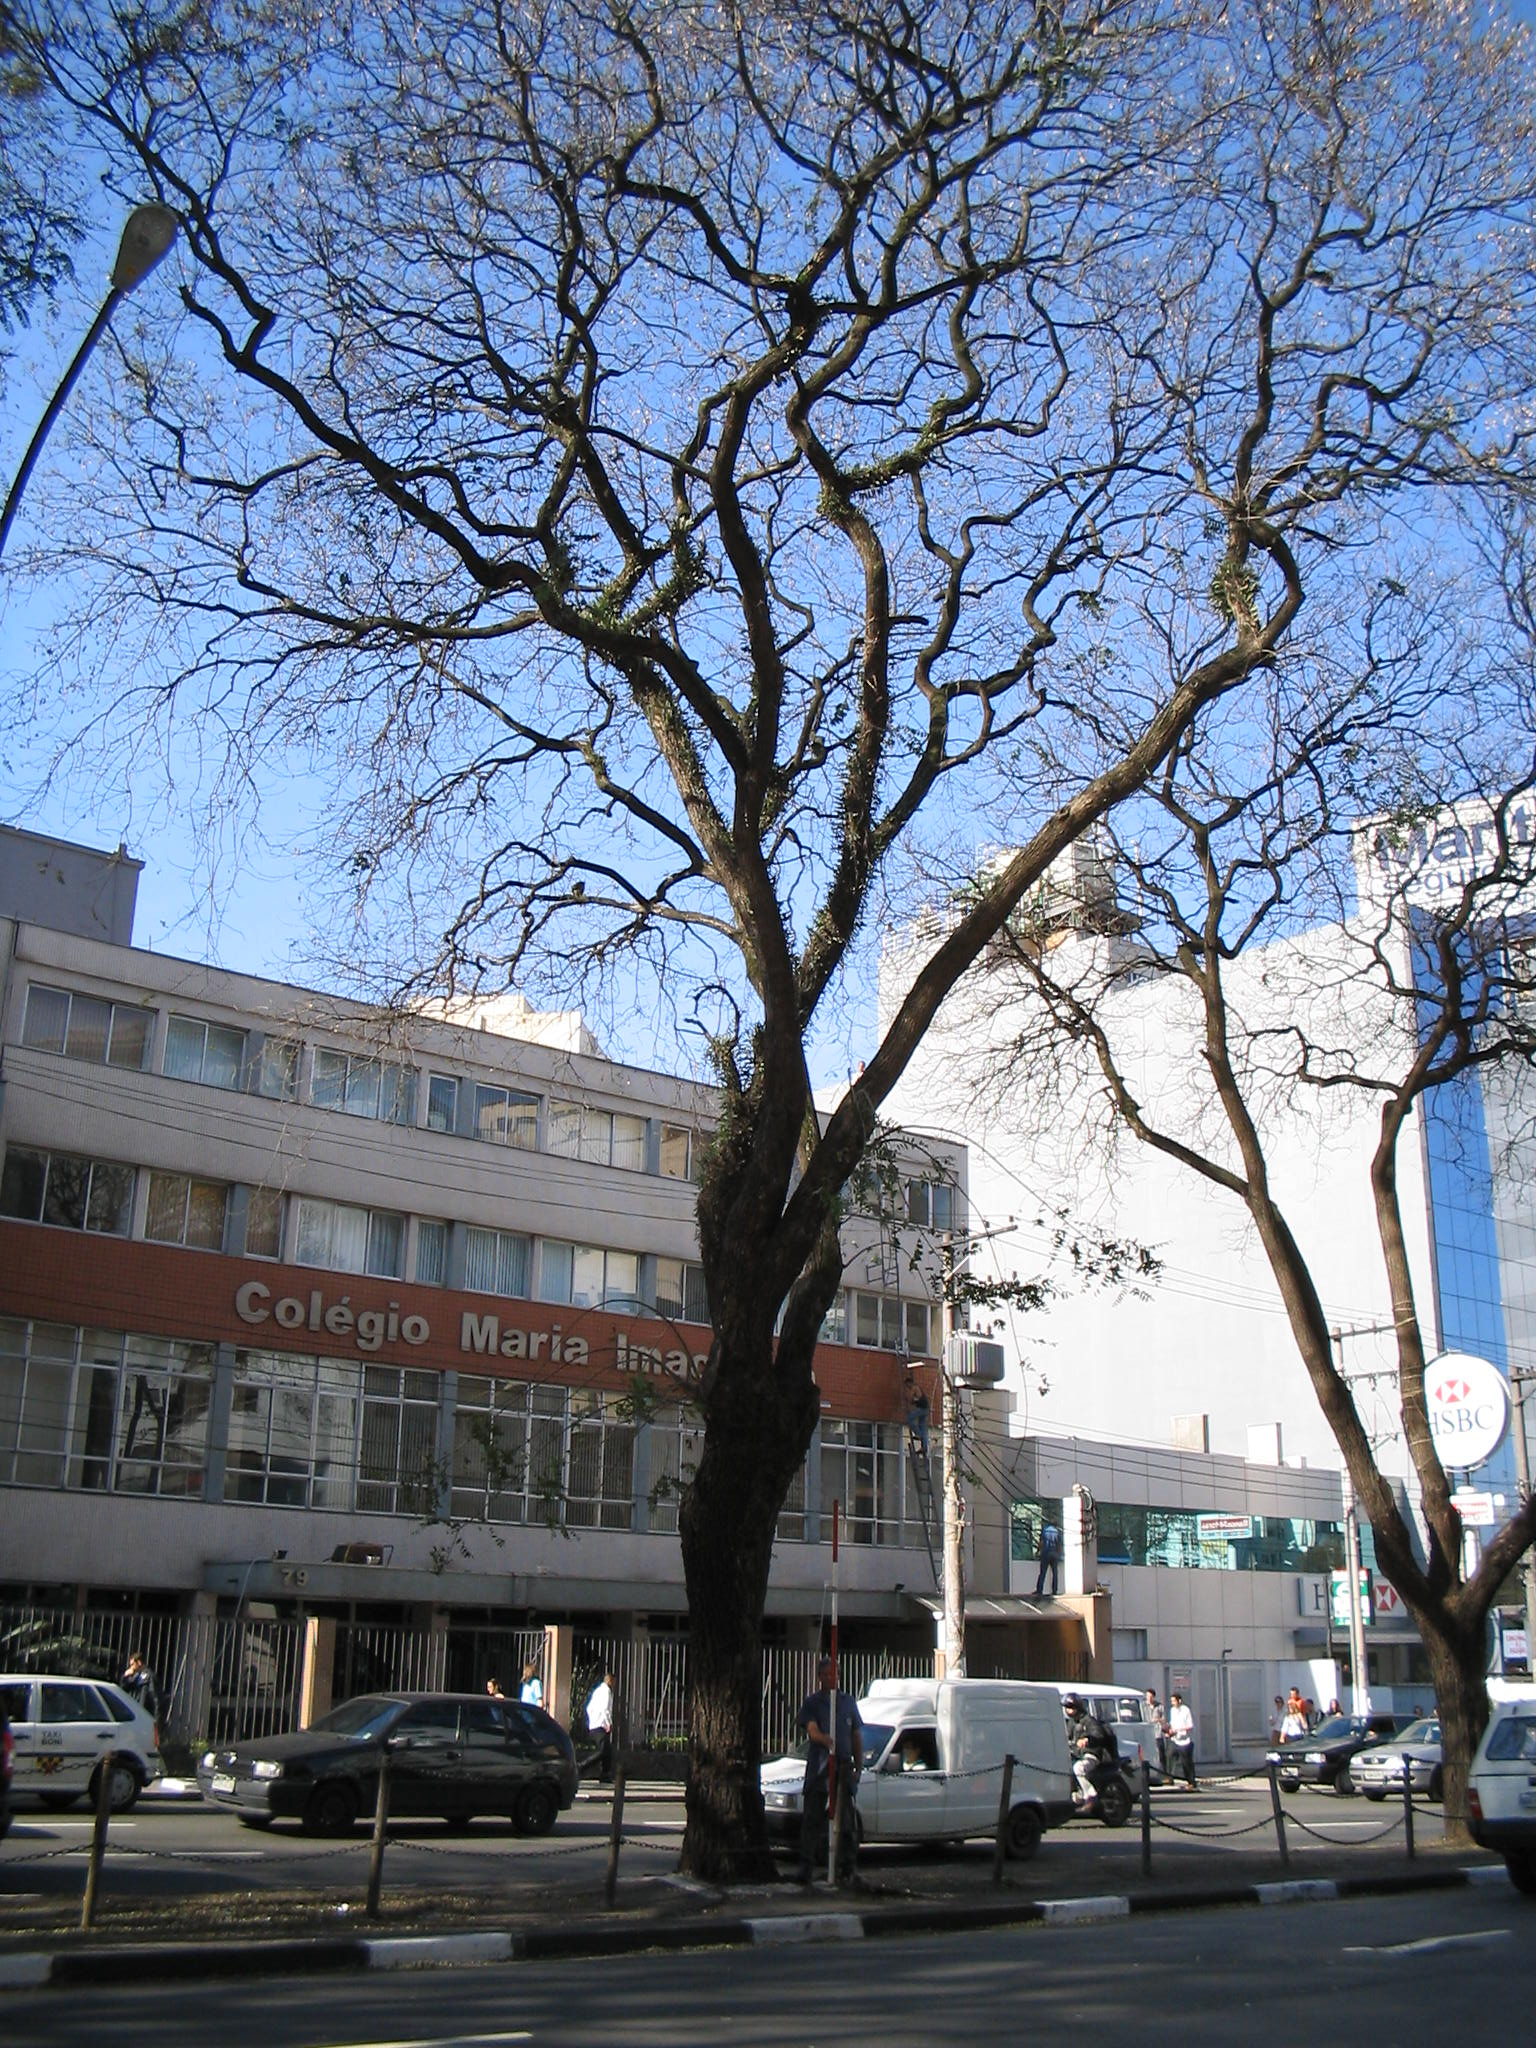stem: (641, 1348, 816, 1893), (1397, 1640, 1517, 1846)
stick: (813, 1498, 862, 1890)
tree: (11, 2, 1521, 1896), (921, 582, 1533, 1848)
